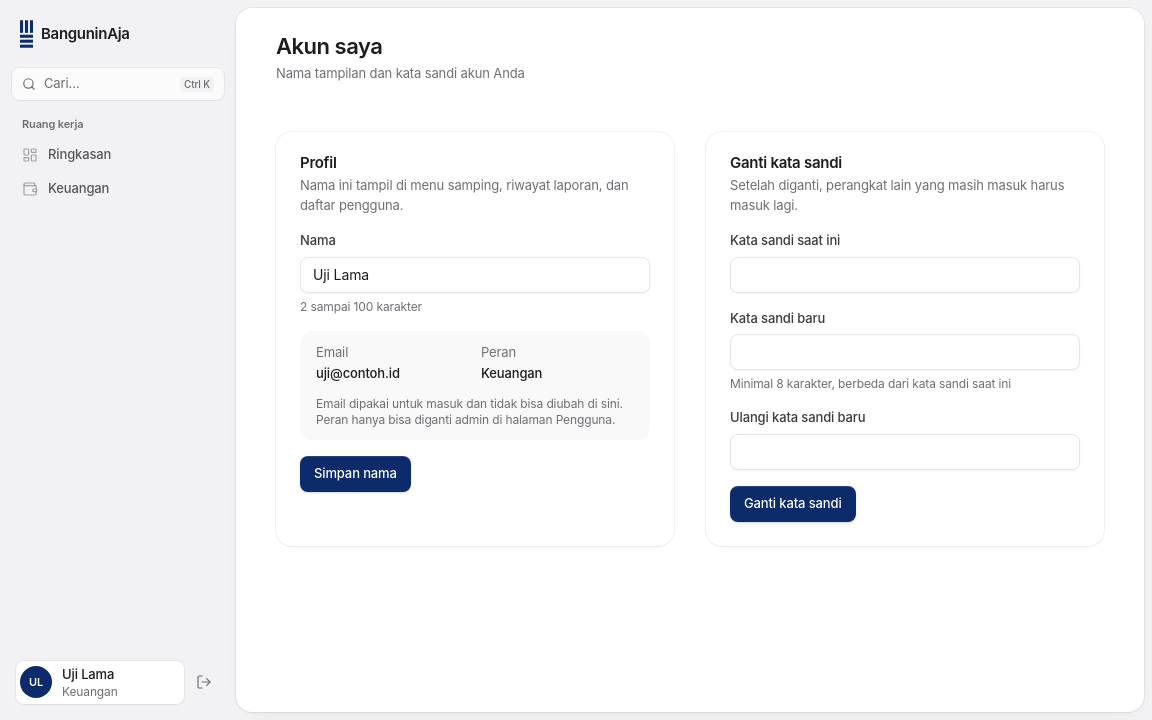
Test: AccountPage password › refuses a confirmation that does not match
The image size is (1152, 720).
Step 1. Type "rahasia123" into the password field labelled "Kata sandi saat ini" → x=905, y=274, box [730, 256, 1080, 292]
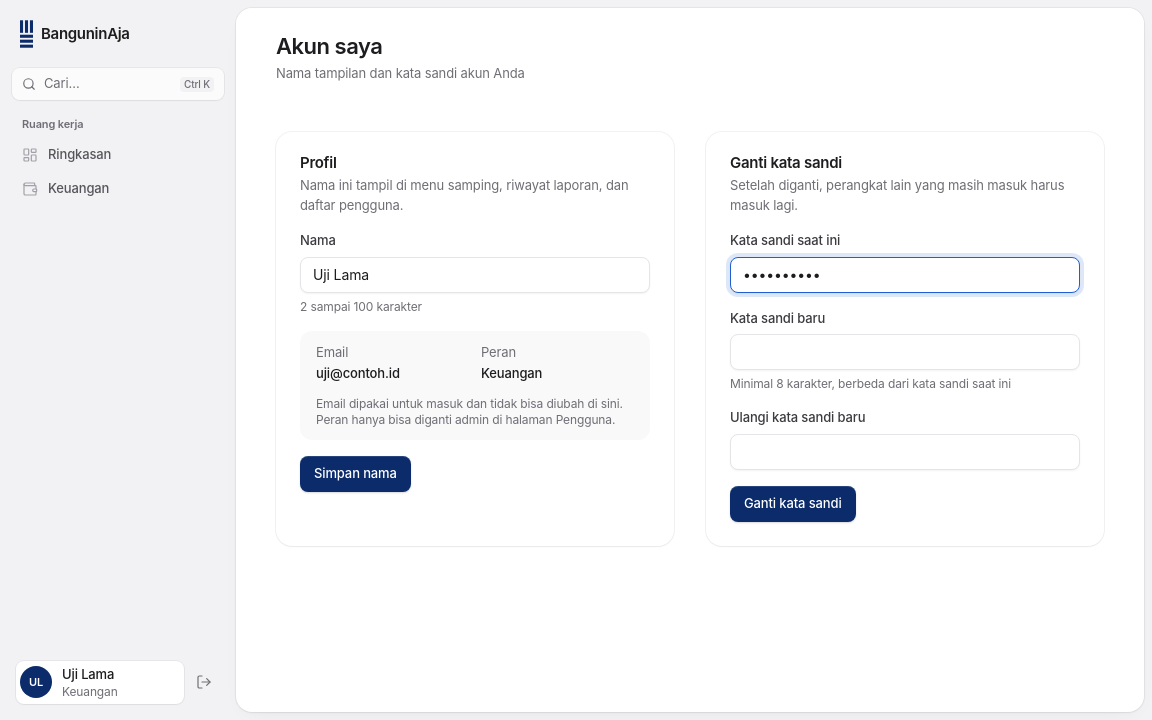
Step 2. Type "sandi-baru-456" into the password field labelled "Kata sandi baru" → x=905, y=352, box [730, 334, 1080, 370]
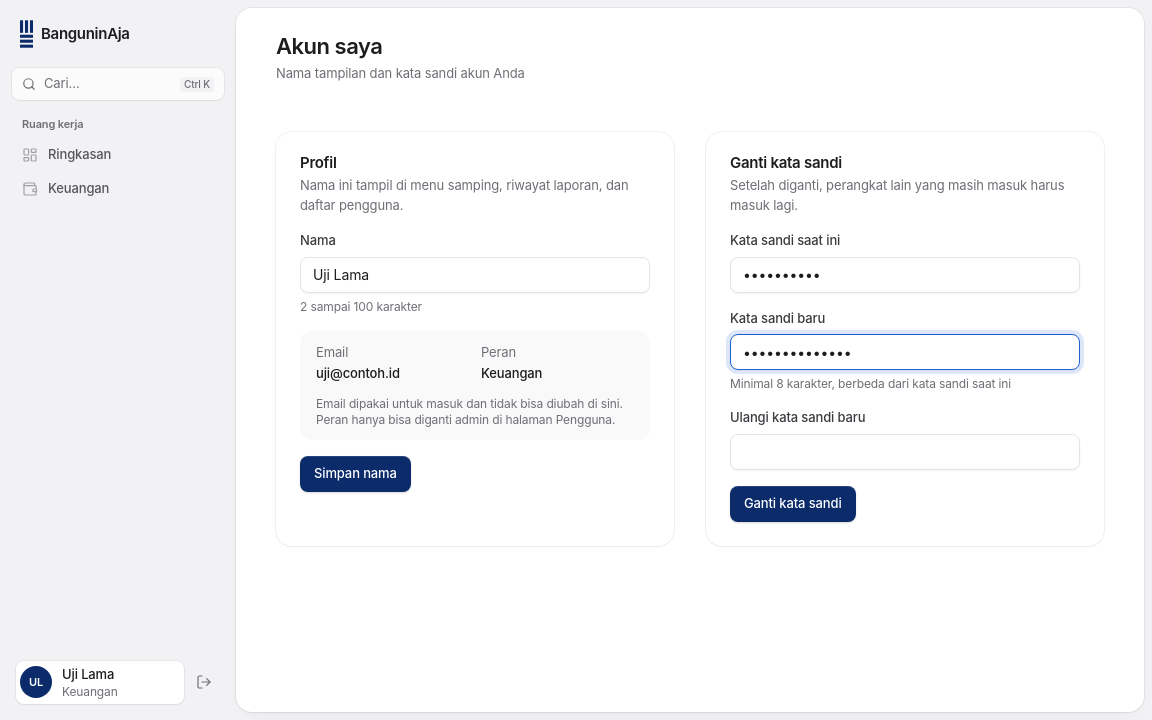
Step 3. Type "sandi-baru-457" into the password field labelled "Ulangi kata sandi baru" → x=905, y=452, box [730, 434, 1080, 470]
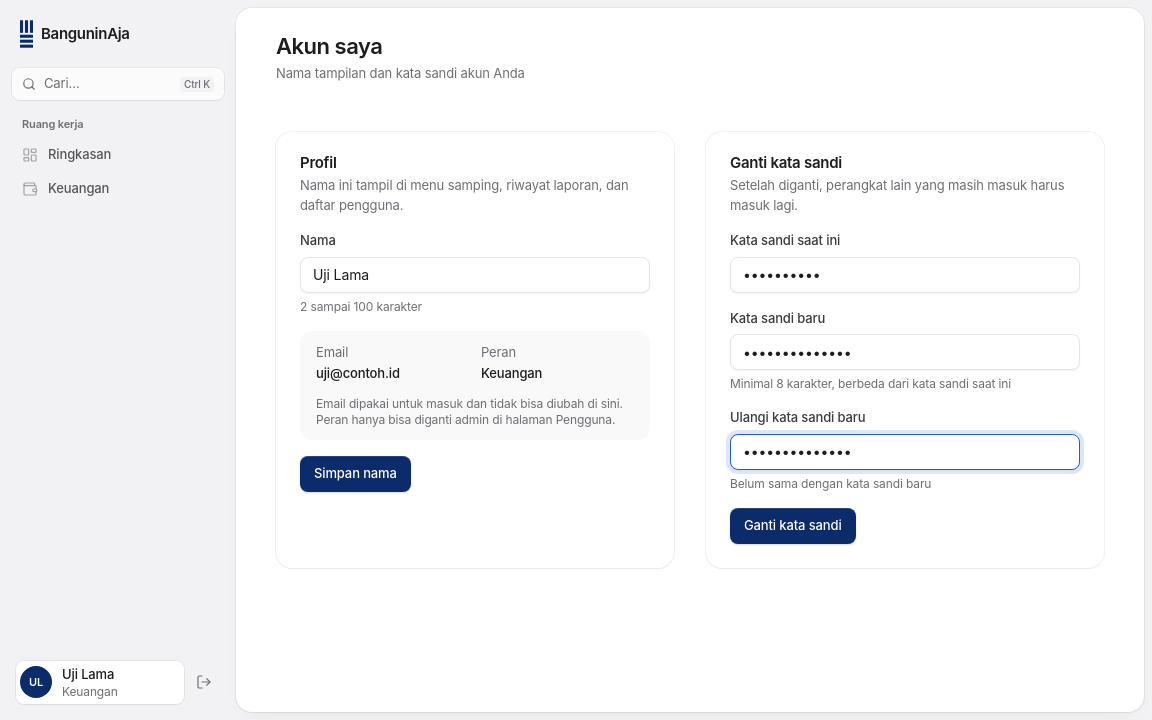
Step 4. Click the button "Ganti kata sandi" → x=793, y=526, box [730, 508, 856, 544]
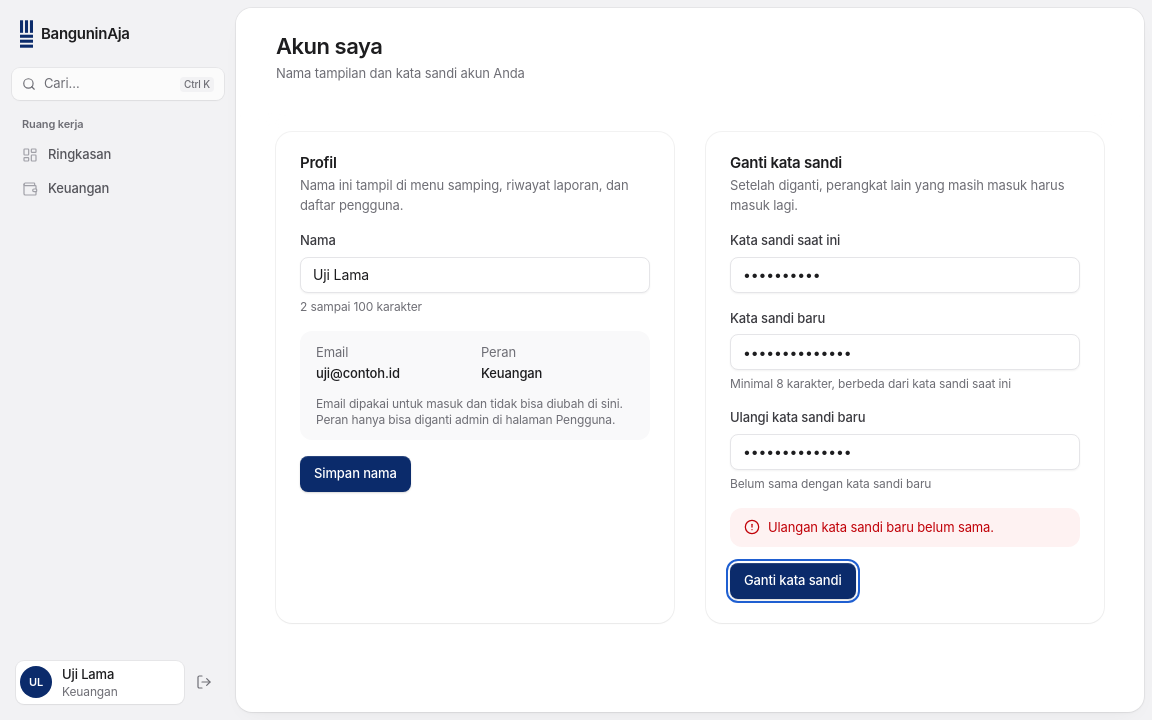
Now the text "Belum sama dengan kata sandi baru" is shown, box [730, 476, 931, 490]
Now the message reads "Ulangan kata sandi baru belum sama.", box [768, 518, 994, 534]
